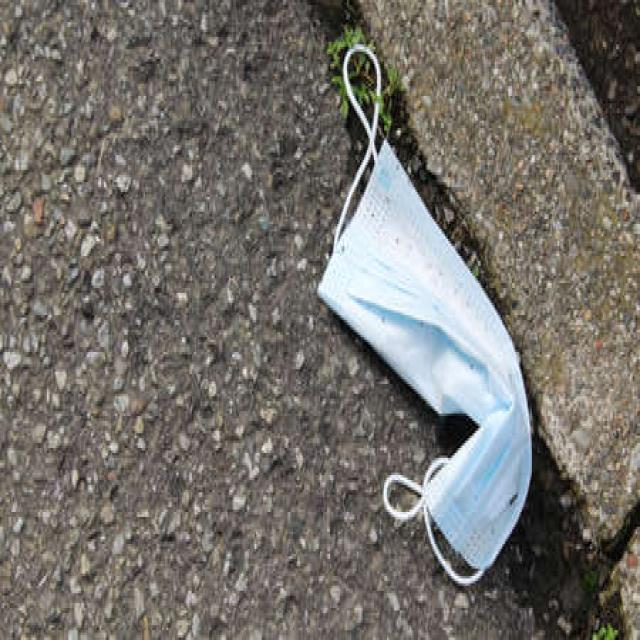face_mask: (313, 74, 546, 588)
